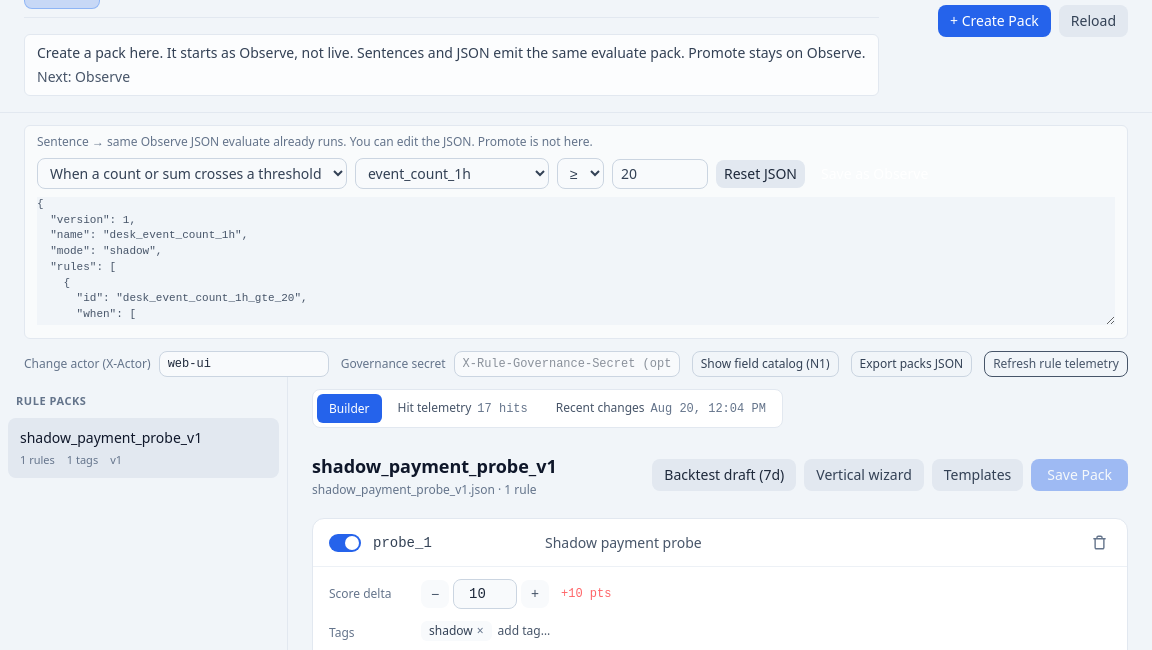
Test: Rules workspace tabs › defaults to the pack builder and keeps telemetry/changelog one click away
expect the heading "shadow_payment_probe_v1" is shown: met, box [312,452,557,480]
expect the tab "Recent changes" is shown: met, box [544,394,778,423]
What coordinates should you click on to do the following:
click the tab "Hit telemetry17 hits"
I would click on:
 (463, 408)
Its box is [386,394,540,423].
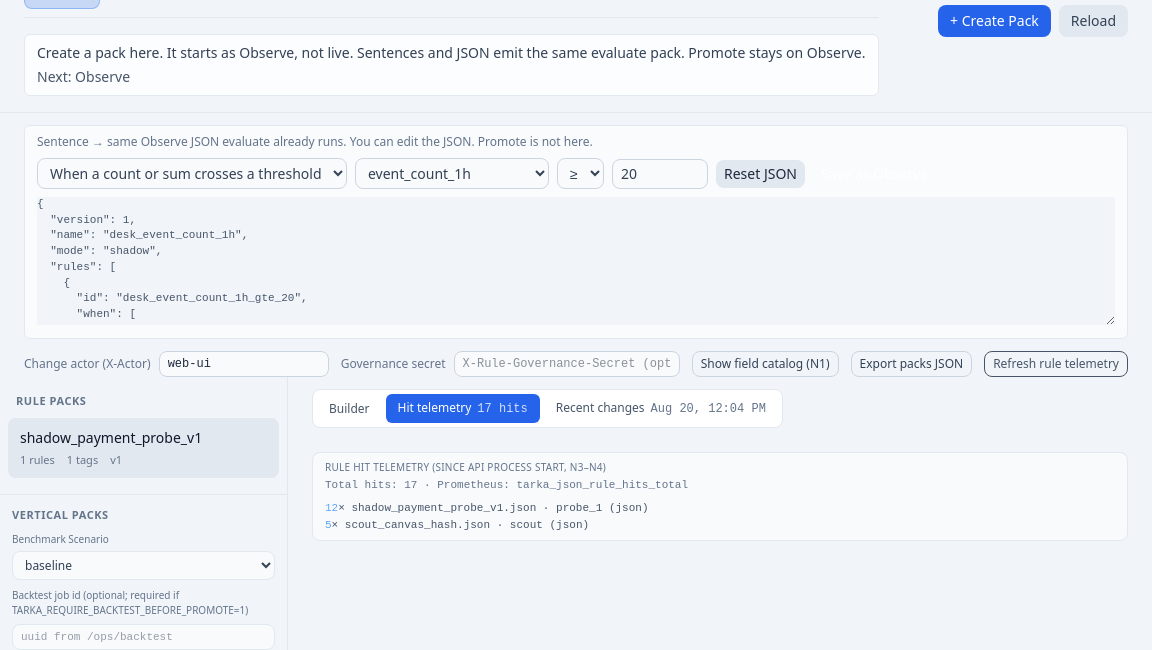
expect the text "create_scout_pack" is not shown: met
expect the text "Rule hit telemetry (since API process start, N3–N4)" is shown: met, box [325,460,606,474]
expect the list item "12× shadow_payment_probe_v1.json · probe_1 (json)" is shown: met, box [325,502,648,514]
What coordinates should you click on to do the following:
click the tab "Recent changes"
I would click on:
 (661, 408)
Its box is [544,394,778,423].
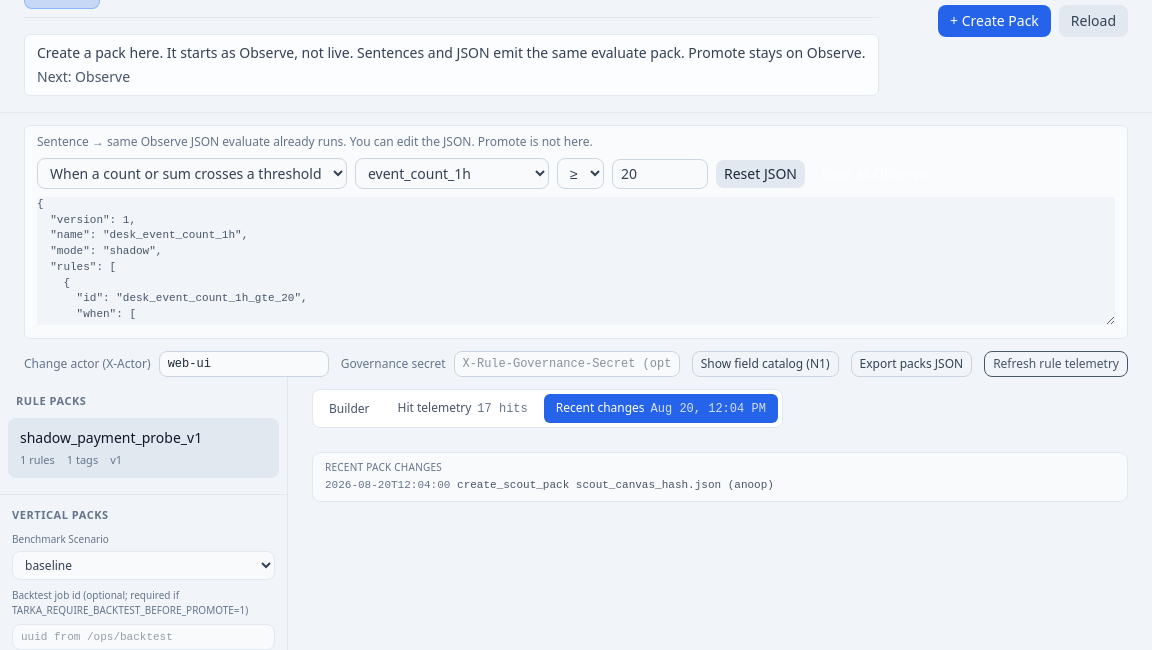
expect the text "create_scout_pack" is shown: met, box [457,479,569,491]
expect the list item "scout_canvas_hash.json" is shown: met, box [576,479,721,491]
expect the text "since API process start" is gone: met
What coordinates should you click on to do the following:
click the tab "Builder"
I would click on:
 (349, 408)
Its box is [317,394,382,423].
(page scrolled)
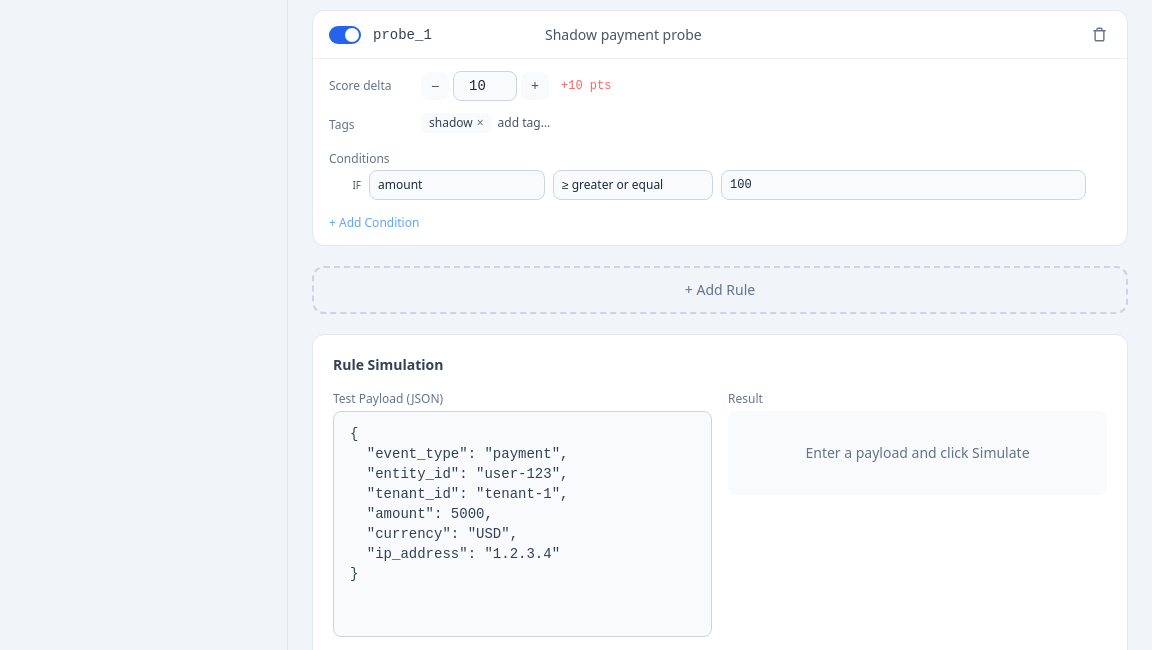
expect the text "since API process start" is not shown: met
expect the button "+ Add Rule" is shown: met, box [312,266,1128,314]
expect the text "create_scout_pack" is gone: met
